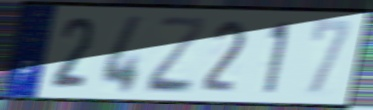1: (261, 19, 293, 96)
2: (47, 15, 97, 92), (199, 18, 249, 94)
4: (100, 11, 141, 96)
7: (307, 17, 356, 100)
Z: (145, 14, 209, 96)
